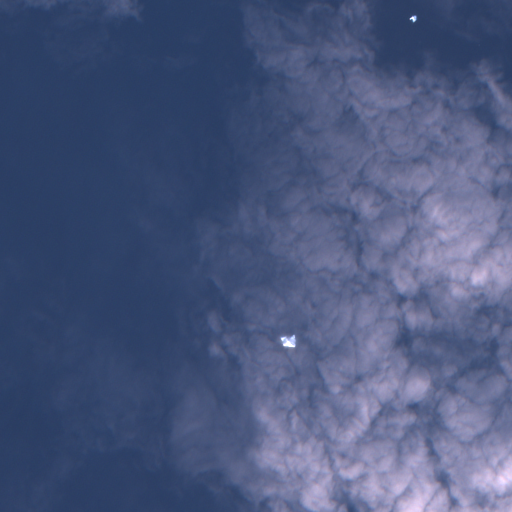Iceberg: (280, 335, 295, 347), (409, 15, 416, 22)
